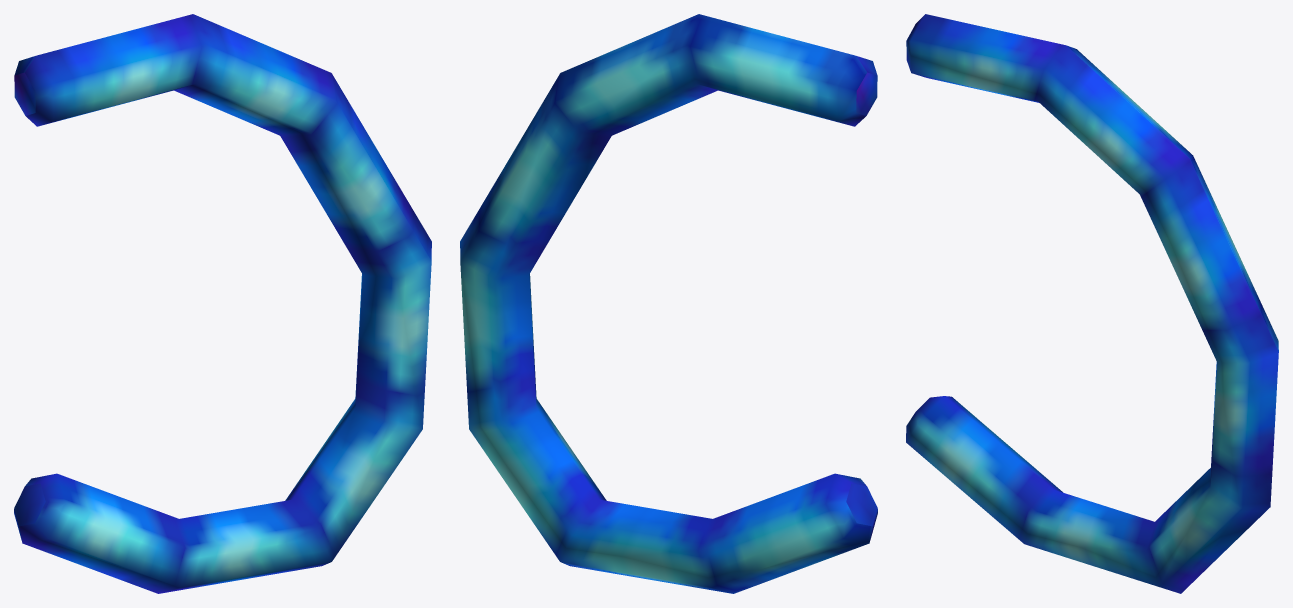
File: furni_0200161.FBX
3 renders of one model, left to right at view 1: azimuth 30°, elevation 25°; view 2: azimuth 150°, elevation 25°; view 3: azimuth 330°, elevation 25°, orthographic. The views are drawn at different scales.
Parts seen in each view (by area): view 1: furni_0200161; view 2: furni_0200161; view 3: furni_0200161.
Part boxes in pixels (x1,y1,x2,y2): furni_0200161: [14, 14, 431, 593]; furni_0200161: [460, 14, 877, 593]; furni_0200161: [906, 14, 1278, 593].
Bounding box in the file's own units: 36.3 × 49.07 × 5.2.
